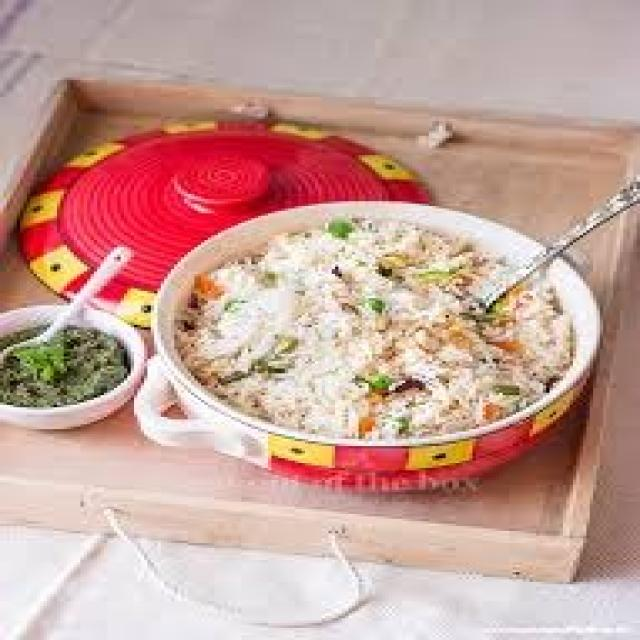nei satham: (162, 228, 573, 462)
